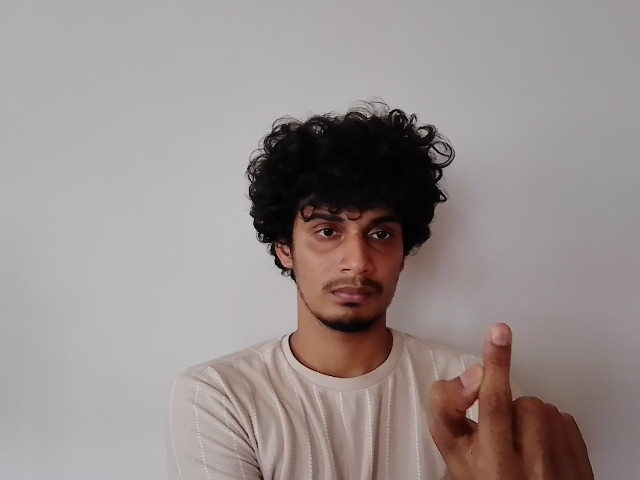just: (426, 321, 597, 480)
